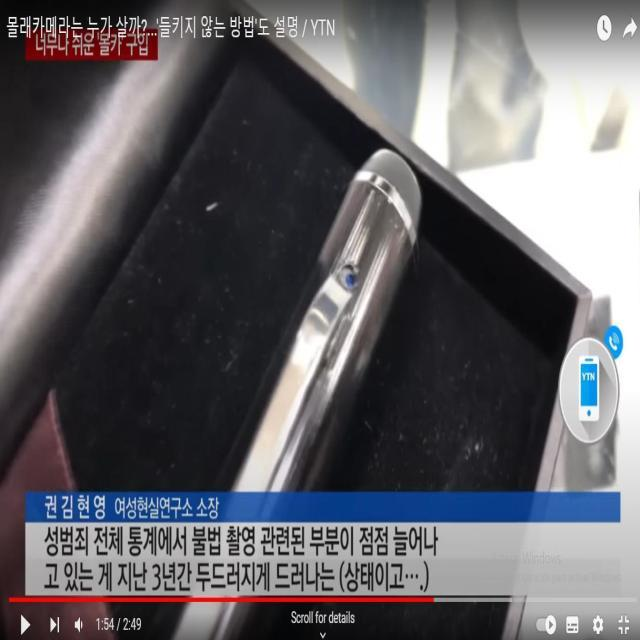hidden camera: (336, 243, 366, 304)
